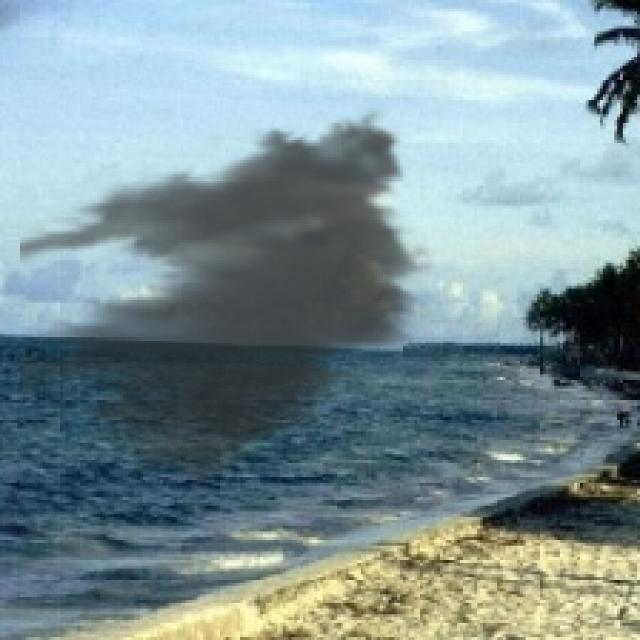Smoke: (20, 100, 440, 494)
